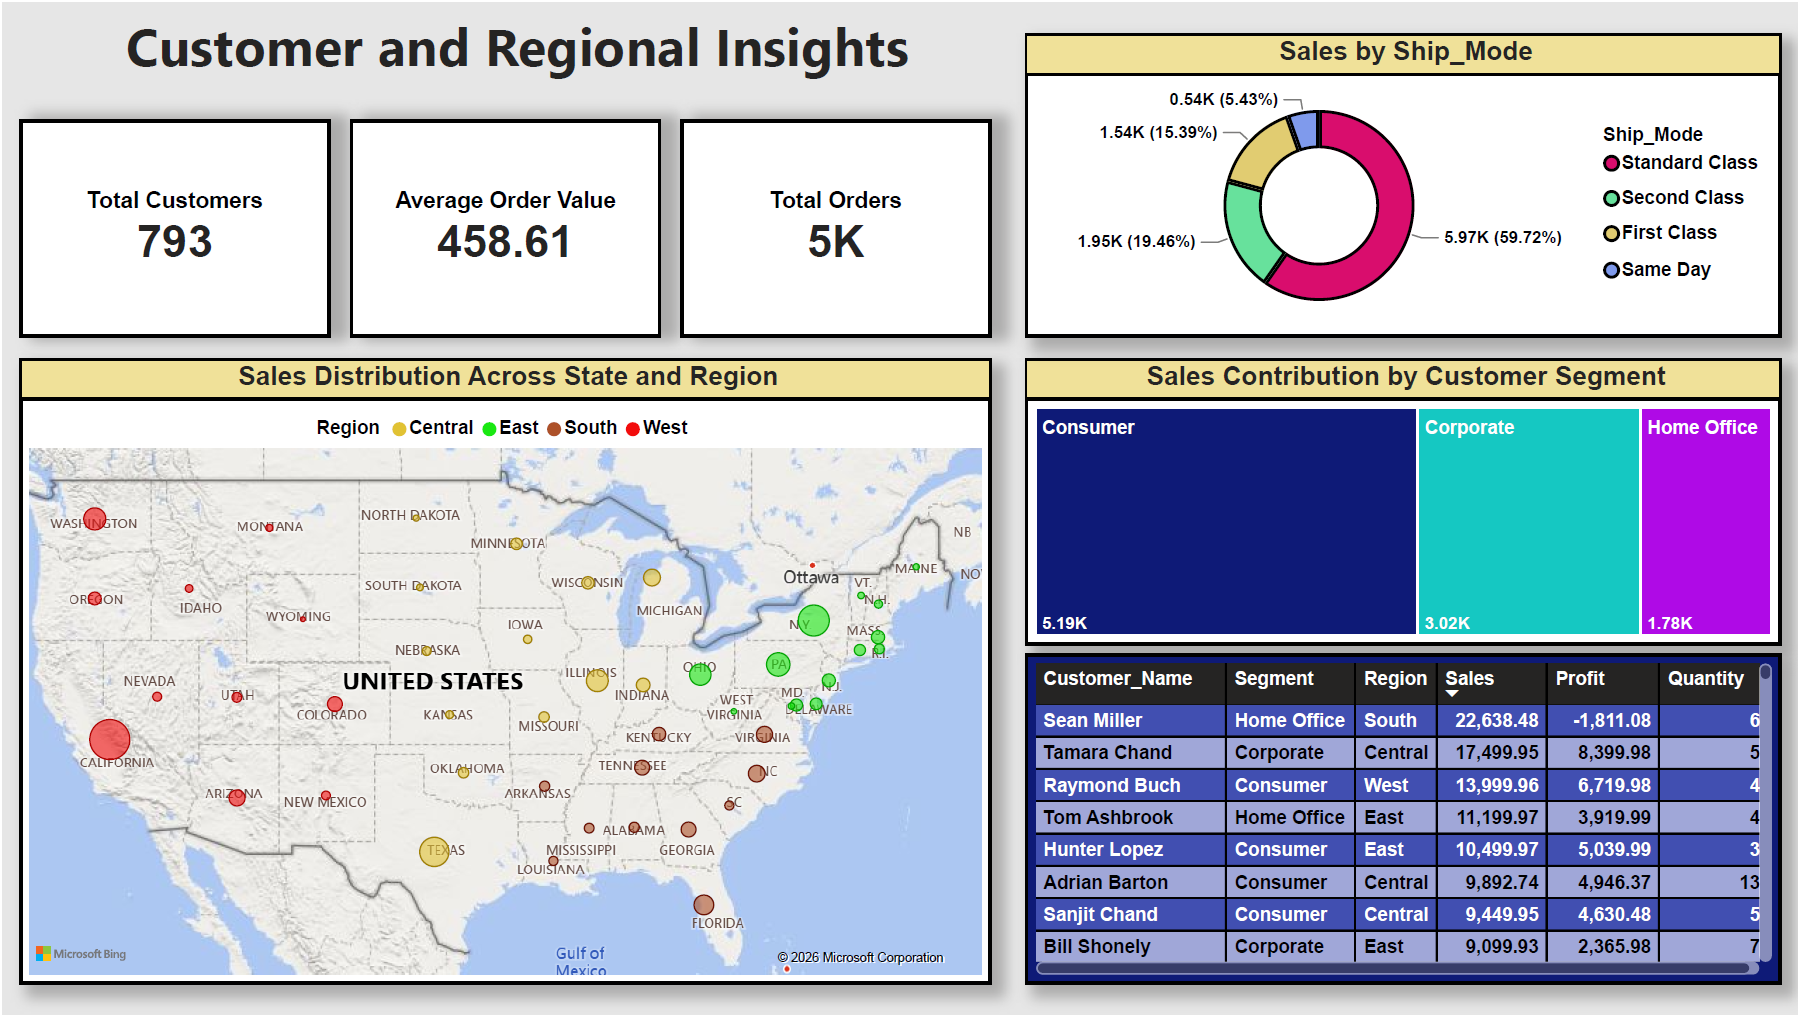

This screenshot's page, from the dashboard's own definition file:
{"tool":"powerbi","page":{"name":"Customer and Regional insights","canvas":[1280,720],"ordinal":2},"visuals":[{"type":"cardVisual","fields":{"Data":["Sales-data.Total Customers"]},"box":[11.7,83.3,221.7,155],"z":0},{"type":"cardVisual","fields":{"Data":["Sales-data.Average Order Value"]},"box":[246.7,83.3,221.7,155],"z":1000},{"type":"cardVisual","fields":{"Data":["Sales-data.Total Orders"]},"box":[481.7,83.3,221.7,155],"z":2000},{"type":"treemap","title":"Sales Contribution by Customer Segment","fields":{"Group":["Sales-data.Segment"],"Values":["CountNonNull(Sales-data.Sales)"]},"box":[726.7,253.3,538.3,203.3],"z":3000},{"type":"donutChart","title":"Sales by Ship_Mode","fields":{"Y":["CountNonNull(Sales-data.Sales)"],"Category":["Sales-data.Ship_Mode"]},"box":[726.7,21.7,538.3,216.7],"z":4000},{"type":"map","title":"Sales Distribution Across State and Region","fields":{"Category":["Sales-data.State"],"Series":["Sales-data.Region"],"Size":["CountNonNull(Sales-data.Sales)"]},"box":[11.7,253.3,691.7,445],"z":5000},{"type":"tableEx","fields":{"Values":["Sales-data.Customer_Name","Sales-data.Segment","Sales-data.Region","Sales-data.Sales","Sales-data.Profit","Sales-data.Quantity"]},"box":[726.7,463.3,538.3,235],"z":6000},{"type":"textbox","box":[60,0,611.7,70],"z":7000}]}

Visuals, with their boxes in screenshot pixels (x1, y1, x2, y2), scaled from the page's 1280x720 canvas onto the 1798x1015 screenshot:
cardVisual - Sales-data.Total Customers: box=[16, 117, 328, 336]
cardVisual - Sales-data.Average Order Value: box=[347, 117, 658, 336]
cardVisual - Sales-data.Total Orders: box=[677, 117, 988, 336]
"Sales Contribution by Customer Segment" treemap: box=[1021, 357, 1777, 644]
"Sales by Ship_Mode" donutChart: box=[1021, 31, 1777, 336]
"Sales Distribution Across State and Region" map: box=[16, 357, 988, 984]
tableEx - Sales-data.Customer_Name x Sales-data.Segment: box=[1021, 653, 1777, 984]
textbox: box=[84, 0, 944, 99]
